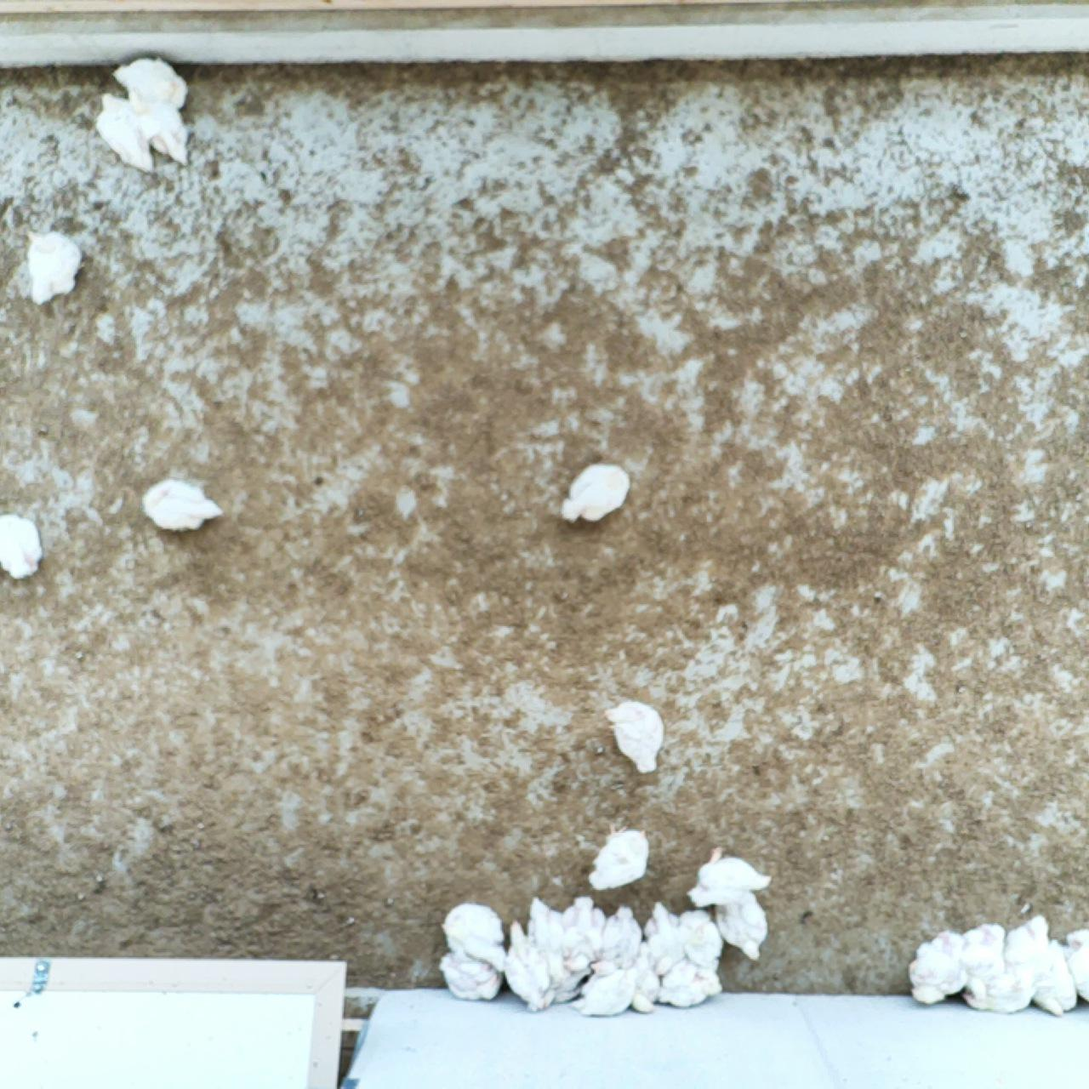chicken: (522, 896, 583, 999), (499, 917, 562, 1016), (113, 91, 195, 163), (137, 474, 225, 535), (94, 88, 157, 172), (685, 846, 773, 906), (586, 819, 654, 894), (23, 224, 87, 303), (707, 884, 773, 960), (556, 460, 630, 525), (606, 697, 665, 777), (109, 53, 187, 113), (906, 931, 967, 1005), (588, 897, 643, 978), (442, 900, 506, 967), (576, 958, 641, 1023), (1028, 937, 1080, 1016), (997, 915, 1054, 986), (556, 893, 603, 978), (437, 945, 502, 1003), (961, 964, 1037, 1013), (654, 958, 723, 1011), (642, 898, 688, 976), (956, 922, 1008, 988), (677, 902, 724, 975), (620, 937, 663, 1012), (0, 510, 45, 579), (1064, 927, 1089, 1009)
